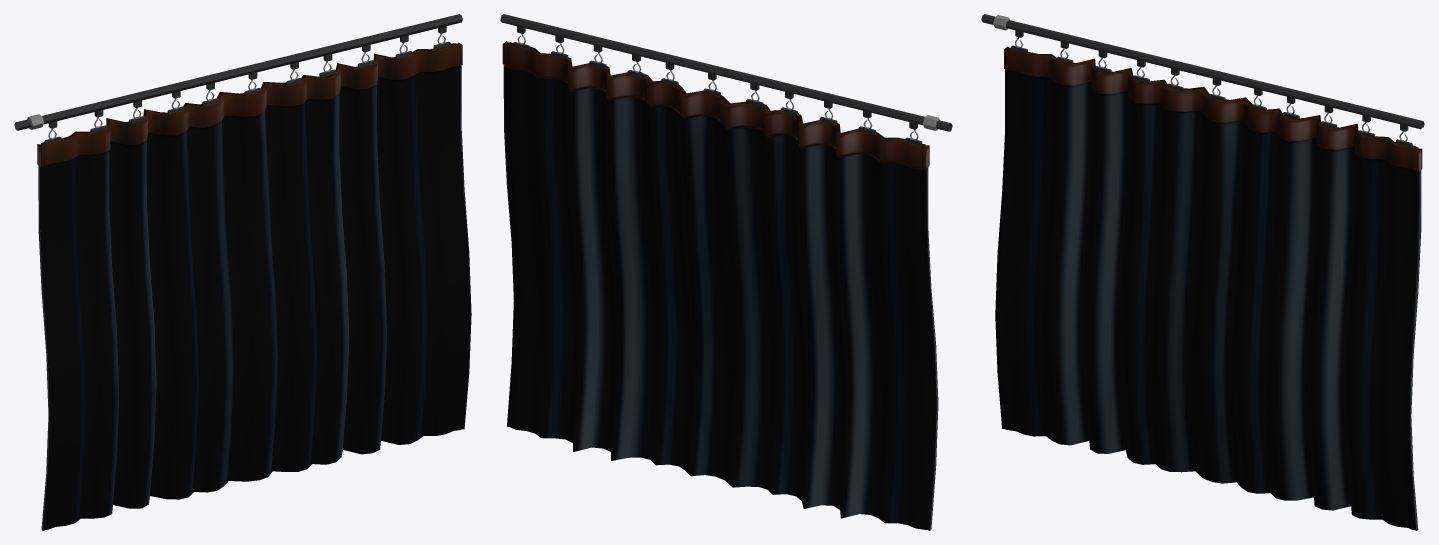
The model's file is CurtainBackdrop.fbx.
The picture shows the model from 3 angles, left to right: view 1: azimuth 30°, elevation 25°; view 2: azimuth 150°, elevation 25°; view 3: azimuth 330°, elevation 25°; orthographic projection. The views are drawn at different scales.
Parts seen in each view (by area): view 1: Curtain, CurtainRail; view 2: Curtain, CurtainRail; view 3: Curtain, CurtainRail.
Part boxes in pixels (box(x1,y1,x2,y2)): Curtain: box(37, 42, 471, 530); CurtainRail: box(14, 14, 462, 130); Curtain: box(502, 41, 938, 530); CurtainRail: box(500, 14, 952, 131); Curtain: box(995, 46, 1422, 530); CurtainRail: box(981, 14, 1424, 129).
Size of the model in its own units: 602 by 534 by 60.37.
